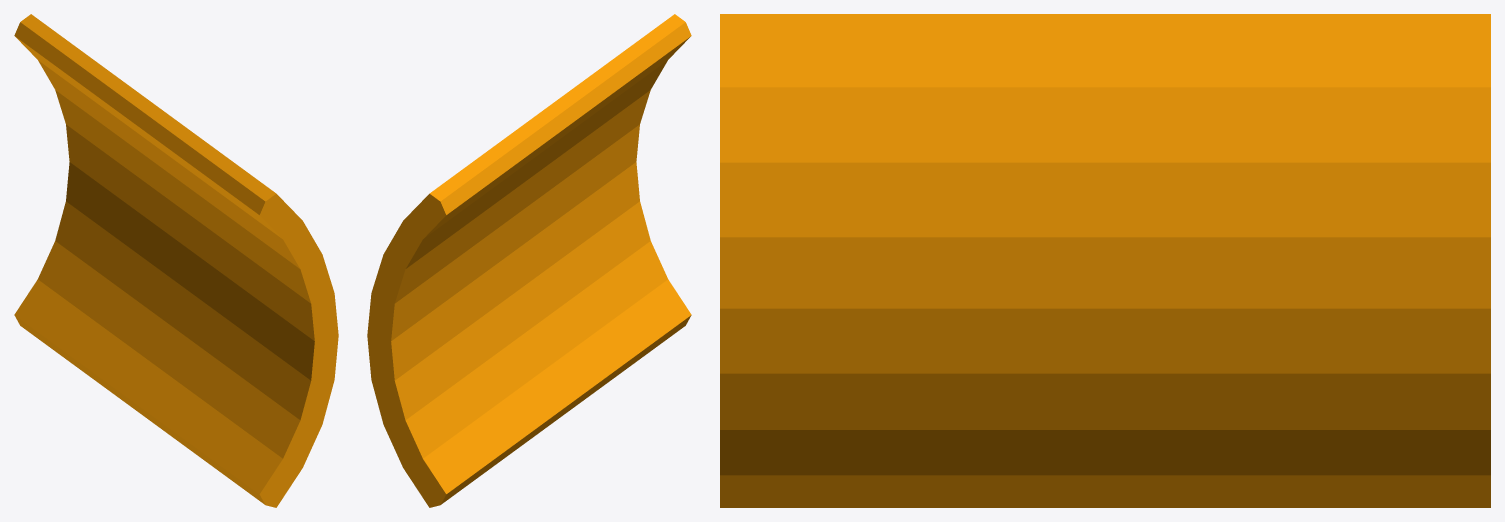
Rendered from energyShield_mod_01.fbx.
The picture shows the model from 3 angles, left to right: view 1: azimuth 30°, elevation 25°; view 2: azimuth 150°, elevation 25°; view 3: azimuth 270°, elevation 25°; orthographic projection. The views are drawn at different scales.
Visible parts, largest first — view 1: Cube; view 2: Cube; view 3: Cube.
Boxes of the visible parts, bbox=[...] form: Cube: bbox=[14, 14, 338, 507]; Cube: bbox=[367, 14, 691, 507]; Cube: bbox=[720, 14, 1490, 507].
Size of the model in its own units: 0.3723 by 2 by 1.41.
